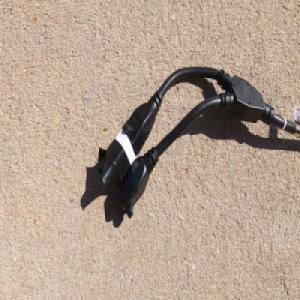Wire: (97, 65, 300, 219)
